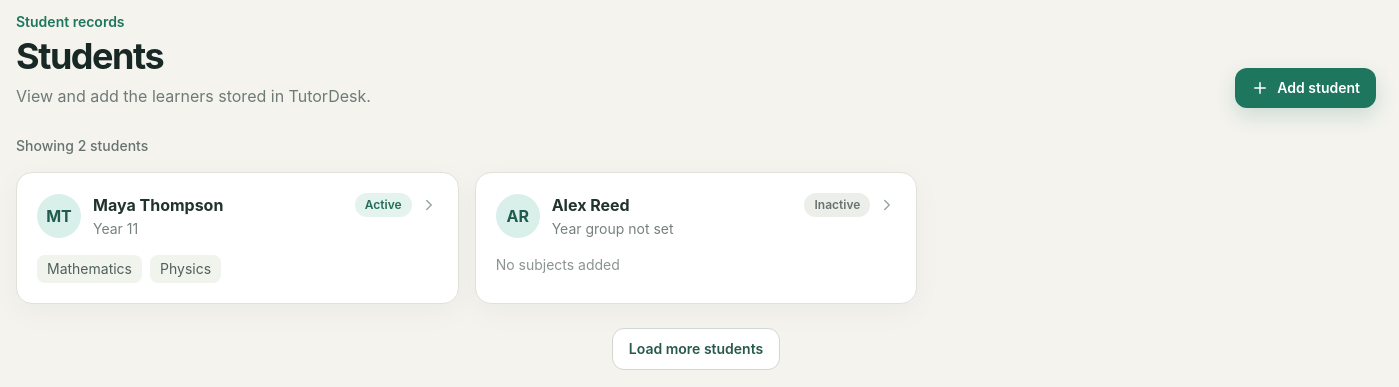
it: loads the next page without replacing existing students
The width and height of the screenshot is (1399, 387).
Expected: the heading "Maya Thompson" is shown, [93,193,223,217]
Click the button "Load more students" at (696, 349), box [612,328,780,370]
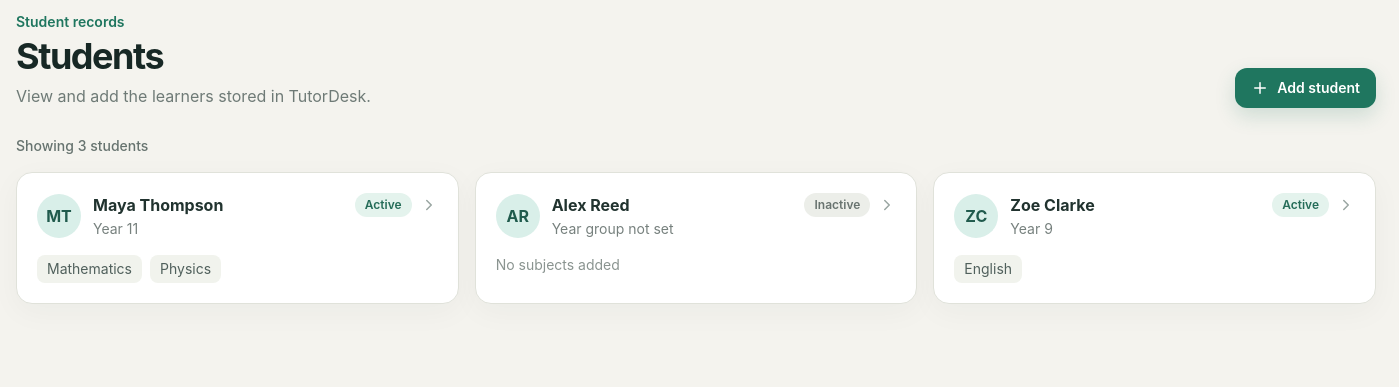
Expected: the heading "Maya Thompson" is shown, [93,193,223,217]
Expected: the heading "Zoe Clarke" is shown, [1010,193,1095,217]
